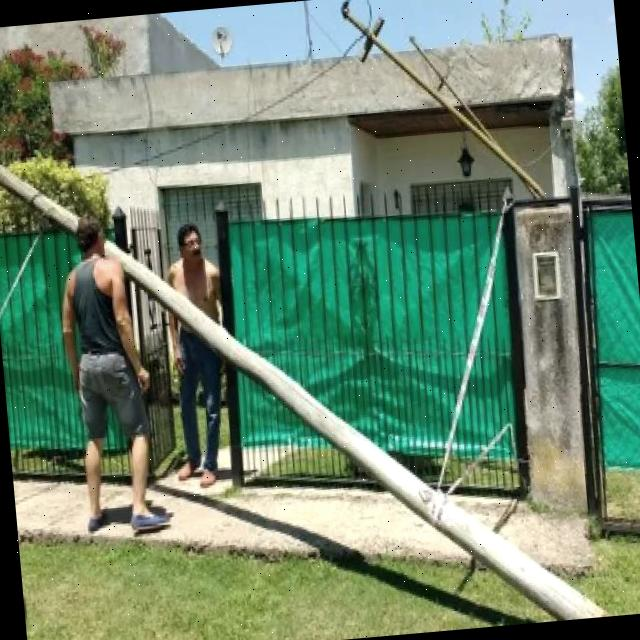Broken Pole: (0, 111, 612, 640)
